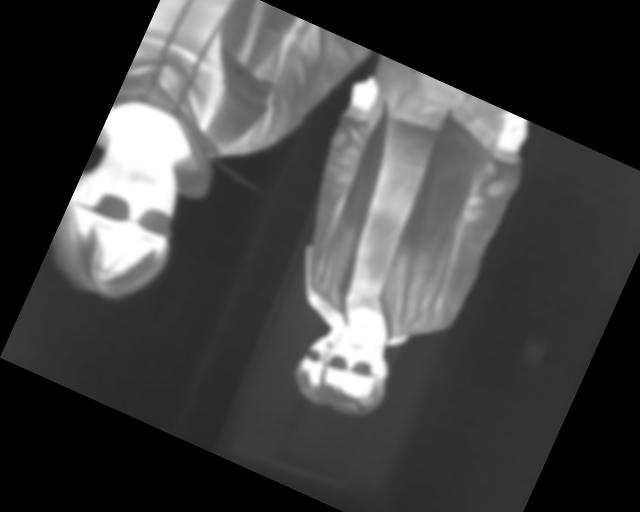face: (39, 131, 204, 319), (308, 313, 409, 427)
